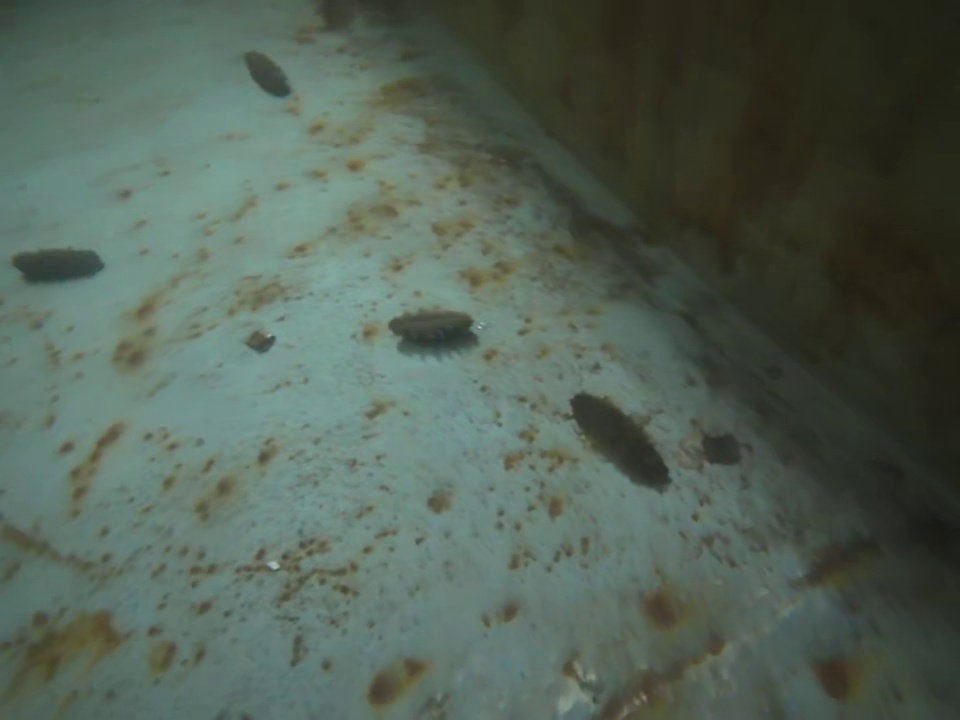seacucumber: (573, 389, 671, 493), (383, 309, 478, 344), (10, 246, 107, 280), (240, 47, 291, 98)
